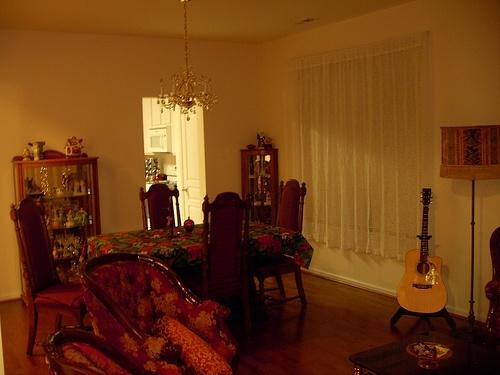chair: (82, 252, 243, 372), (10, 195, 93, 358), (197, 193, 257, 326), (258, 180, 312, 314), (43, 319, 144, 375), (139, 184, 185, 231)
diningtable: (80, 217, 320, 273)
